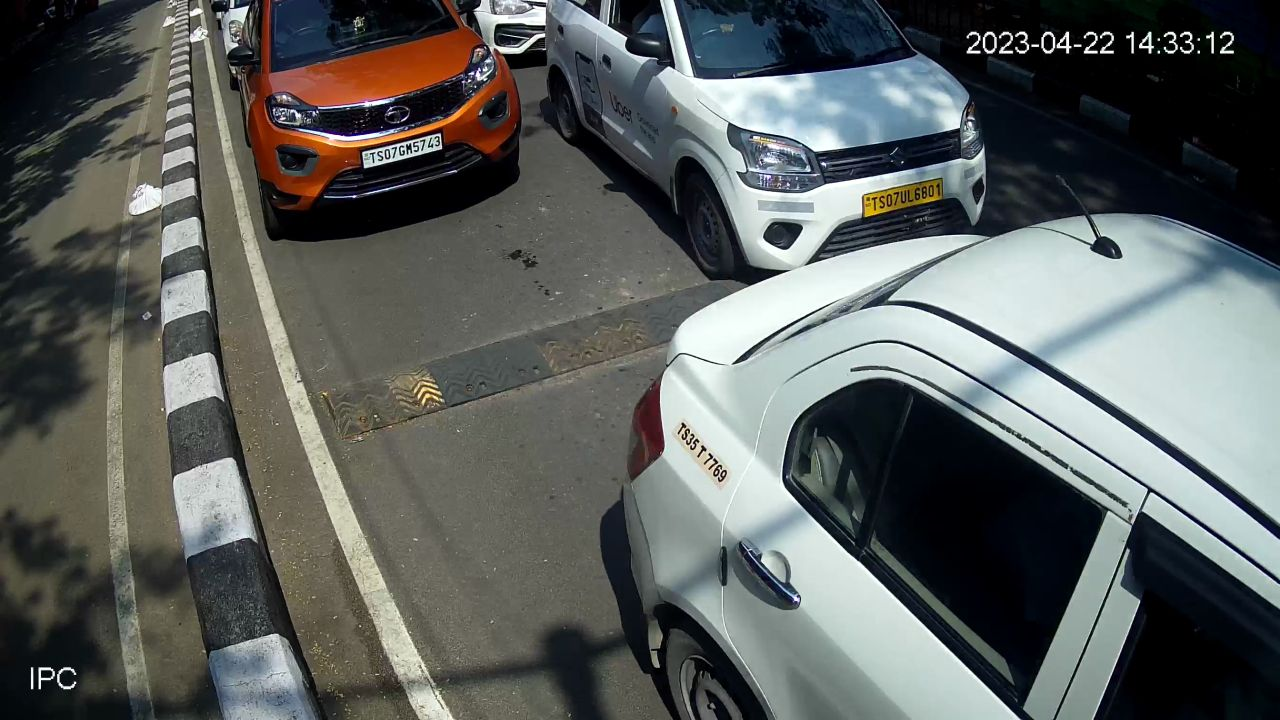license_plate: (671, 418, 732, 489), (857, 175, 947, 223), (357, 127, 445, 176)
